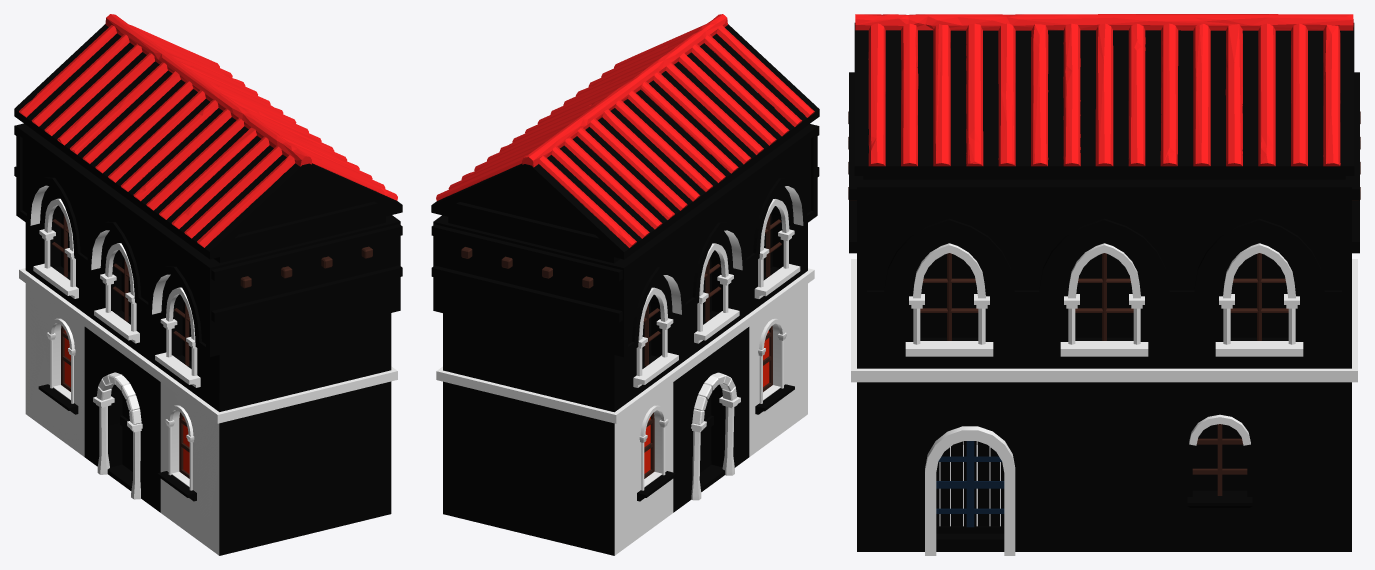
File: civilian_house_38_f.FBX
The picture shows the model from 3 angles, left to right: view 1: azimuth 30°, elevation 25°; view 2: azimuth 150°, elevation 25°; view 3: azimuth 270°, elevation 25°; orthographic projection. The views are drawn at different scales.
Visible parts, largest first — view 1: civilian_house_38_f; view 2: civilian_house_38_f; view 3: civilian_house_38_f.
Part boxes in pixels (x1,y1,x2,y2): civilian_house_38_f: [14, 14, 402, 555]; civilian_house_38_f: [431, 14, 819, 555]; civilian_house_38_f: [848, 14, 1360, 555].
Size of the model in its own units: 590 by 1080 by 1035.
